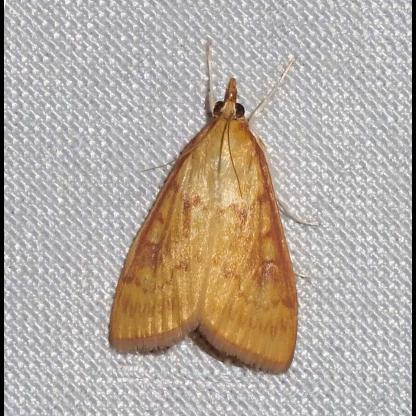Asian Corn Borer Moth: (105, 36, 326, 380)
